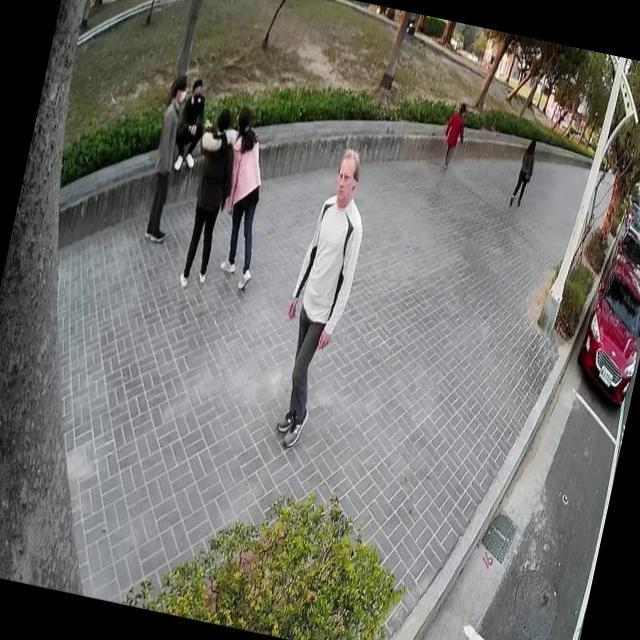person: (258, 132, 384, 454), (198, 95, 286, 292), (166, 96, 250, 296), (133, 68, 200, 247), (168, 74, 215, 174), (506, 126, 544, 213), (433, 96, 472, 177)
